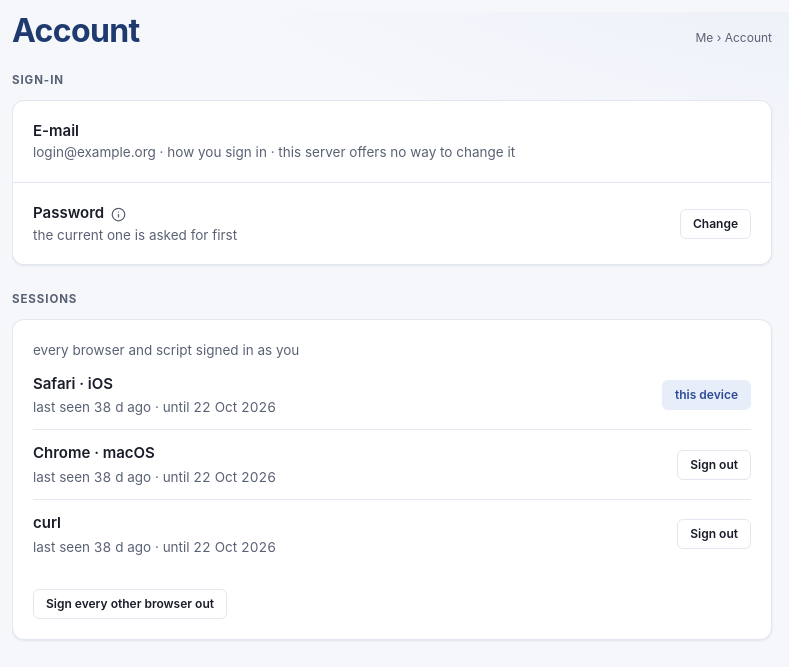
Test: where this person is signed in › ends another session and reads the list again
expect the text "login@example.org" is shown: met, box [33,144,156,160]
What coordinates should you click on to do the following:
click the button "Sign out" in the row of "Chrome · macOS"
I would click on:
 (714, 465)
Its box is [677,450,751,480].
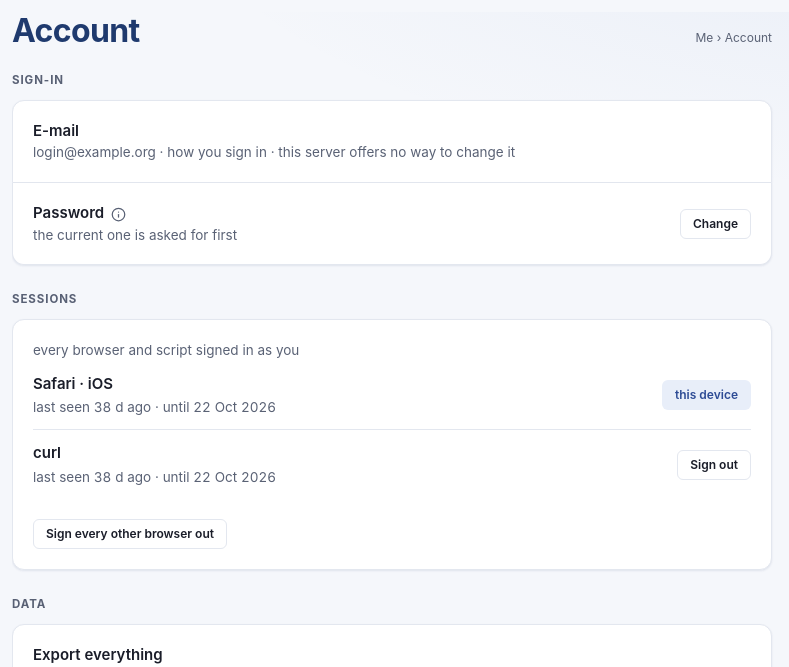
expect the number of list items is 2: met, box [33,372,751,429]; [33,429,751,499]
